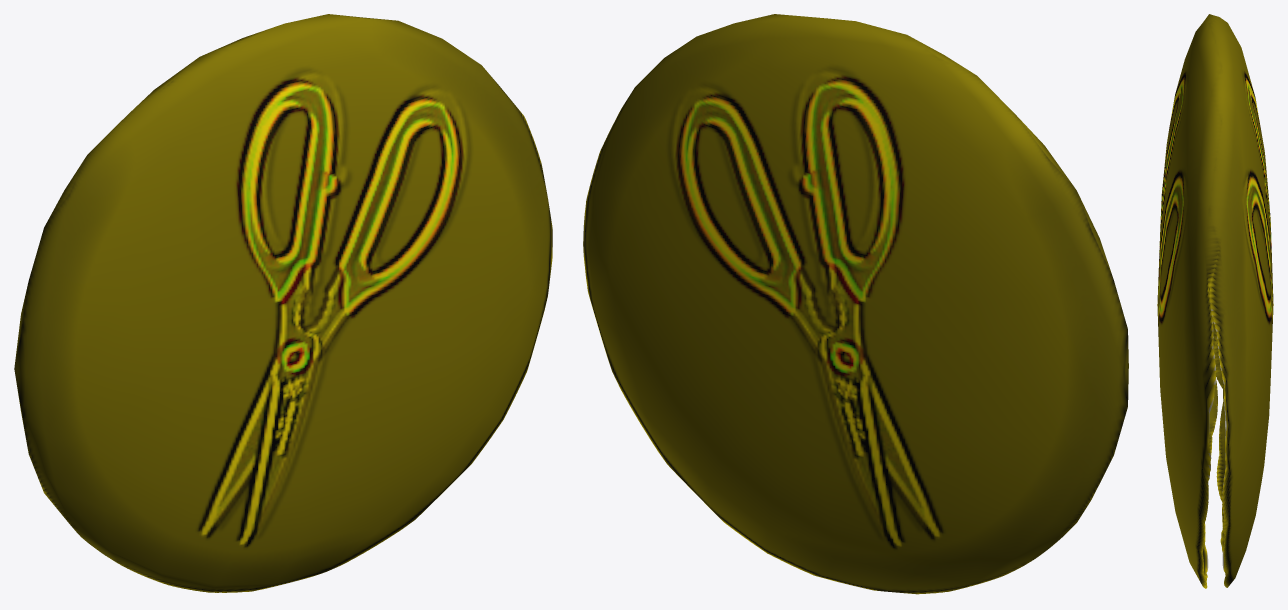
The model's file is Coin.fbx.
3 renders of one model, left to right at view 1: azimuth 30°, elevation 25°; view 2: azimuth 150°, elevation 25°; view 3: azimuth 270°, elevation 25°, orthographic. The views are drawn at different scales.
Parts seen in each view (by area): view 1: pPlatonic1; view 2: pPlatonic1; view 3: pPlatonic1.
Part boxes in pixels (left/top/right/bottom): pPlatonic1: left=14, top=14, right=552, bottom=592; pPlatonic1: left=583, top=14, right=1128, bottom=594; pPlatonic1: left=1157, top=14, right=1273, bottom=588.
Bounding box in the file's own units: 0.9447 × 0.9477 × 0.189.
1 material, 1 textured.
